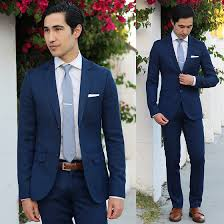F_M_suit jacket: (14, 55, 133, 206), (144, 32, 219, 126)
F_belt: (51, 156, 94, 174)
F_dress pants: (158, 119, 210, 215)
F_tie: (53, 60, 86, 163), (170, 35, 191, 74)
